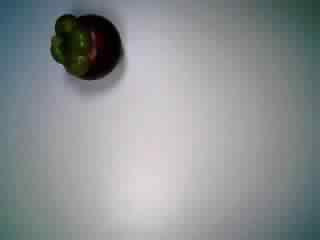mangosteen: (47, 10, 123, 85)
